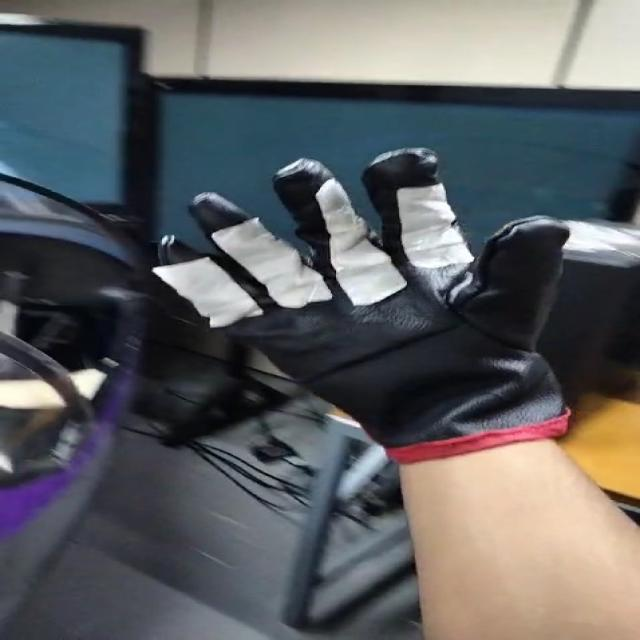Gloves: (157, 148, 599, 454)
